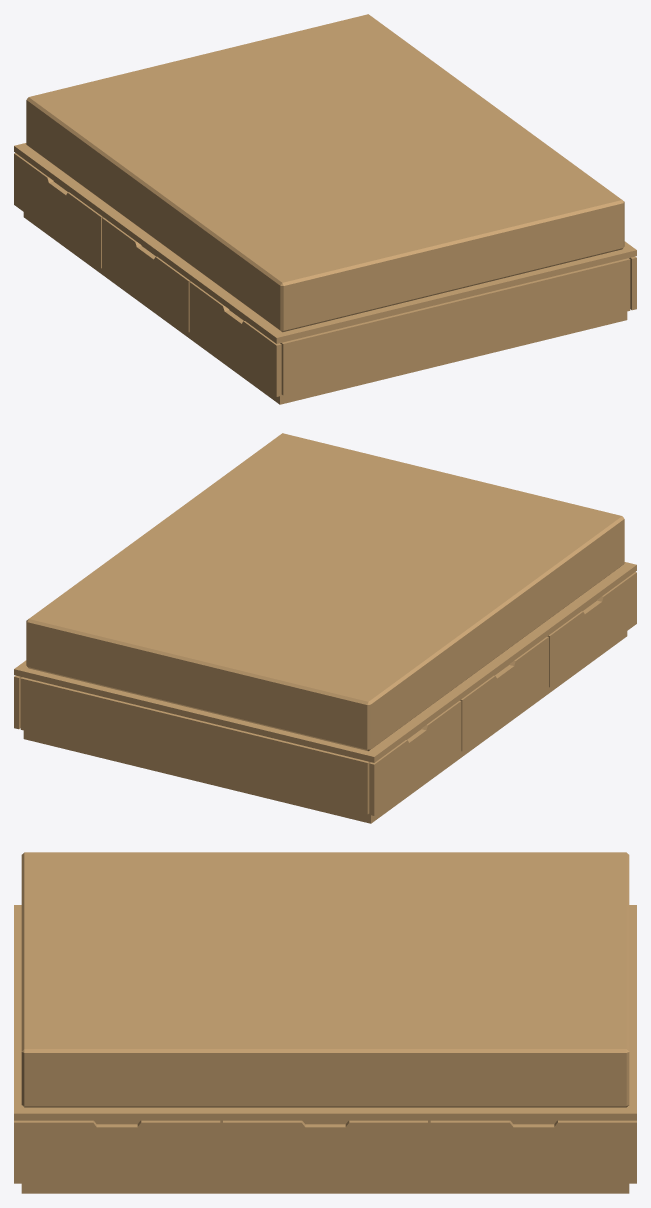
Rendered from Low_Poly_Bed_1.glb.
3 views of the same model, one above another, from view 1: azimuth 30°, elevation 25°; view 2: azimuth 150°, elevation 25°; view 3: azimuth 270°, elevation 25° (orthographic). The views are drawn at different scales.
Visible parts, largest first — view 1: bed1_Matress_0, bed1_wood_0; view 2: bed1_Matress_0, bed1_wood_0; view 3: bed1_Matress_0, bed1_wood_0.
Boxes of the visible parts, x1,y1,x2,y2 form: bed1_Matress_0: (26, 14, 624, 332); bed1_wood_0: (14, 143, 636, 404); bed1_Matress_0: (26, 433, 624, 751); bed1_wood_0: (14, 562, 636, 823); bed1_Matress_0: (21, 852, 629, 1107); bed1_wood_0: (14, 905, 636, 1193).
Bounding box in the file's own units: 160 × 50.99 × 202.
